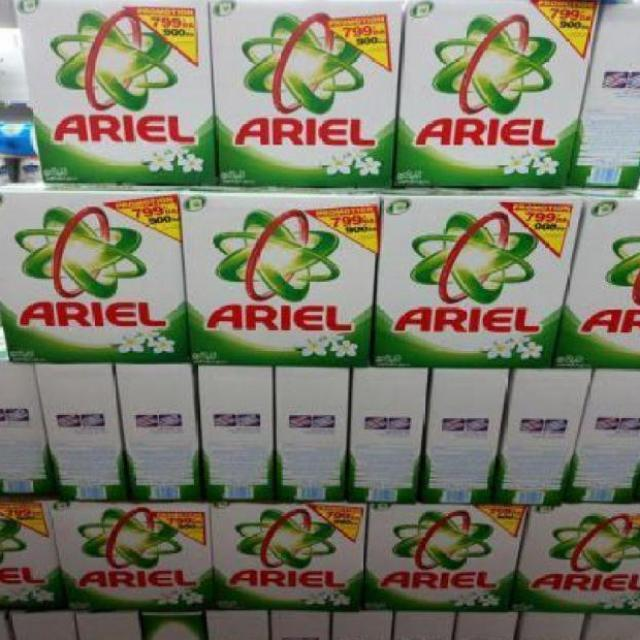Detergent: (394, 0, 601, 183), (18, 0, 216, 191), (209, 0, 394, 191), (374, 188, 561, 371), (185, 197, 380, 364), (0, 191, 184, 362), (203, 492, 367, 613), (63, 501, 214, 618), (364, 504, 520, 613), (517, 500, 640, 614), (565, 194, 640, 364), (0, 501, 59, 613)
